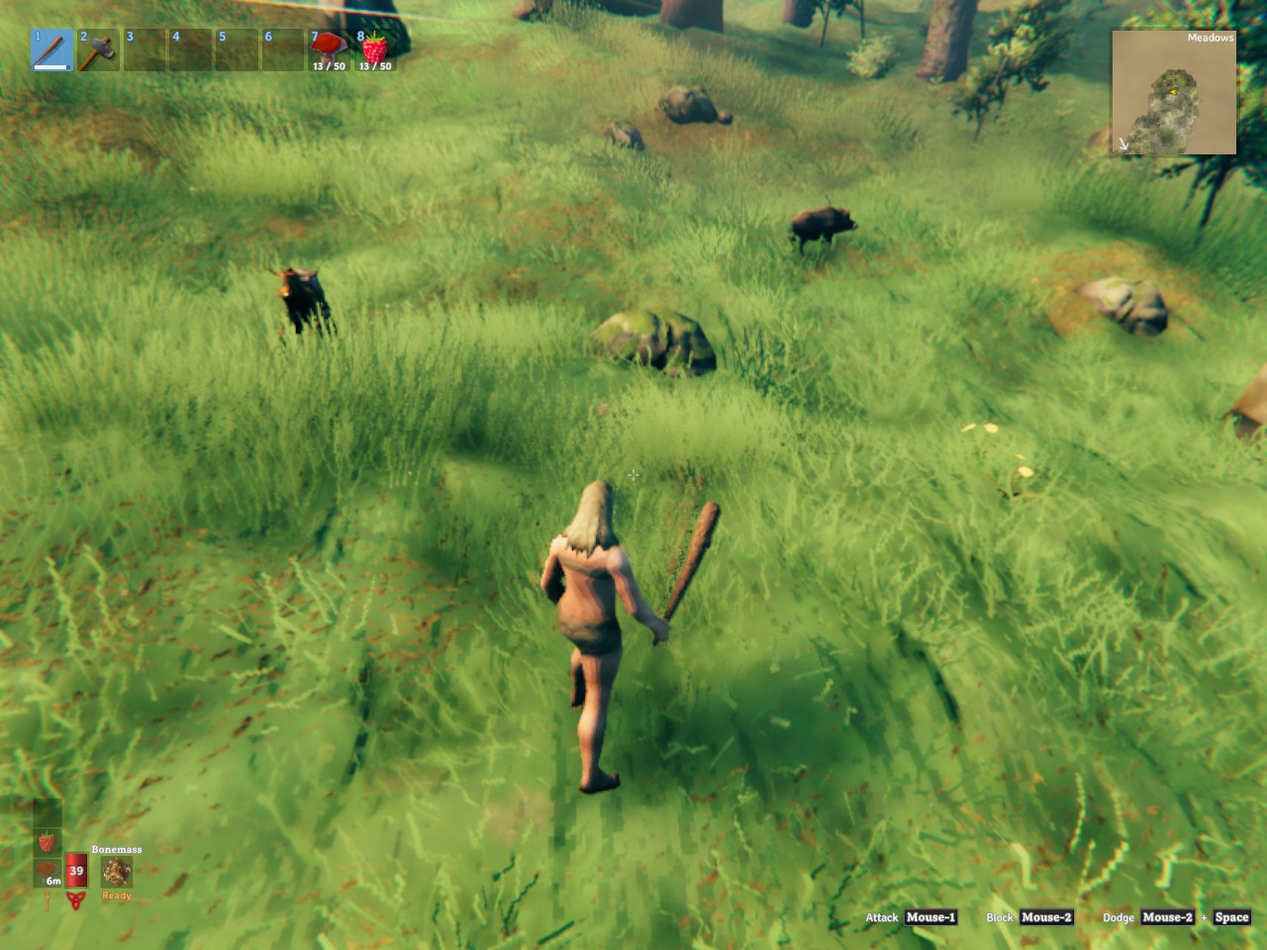Boar: (789, 207, 857, 253)
Greyling: (270, 267, 337, 334)
